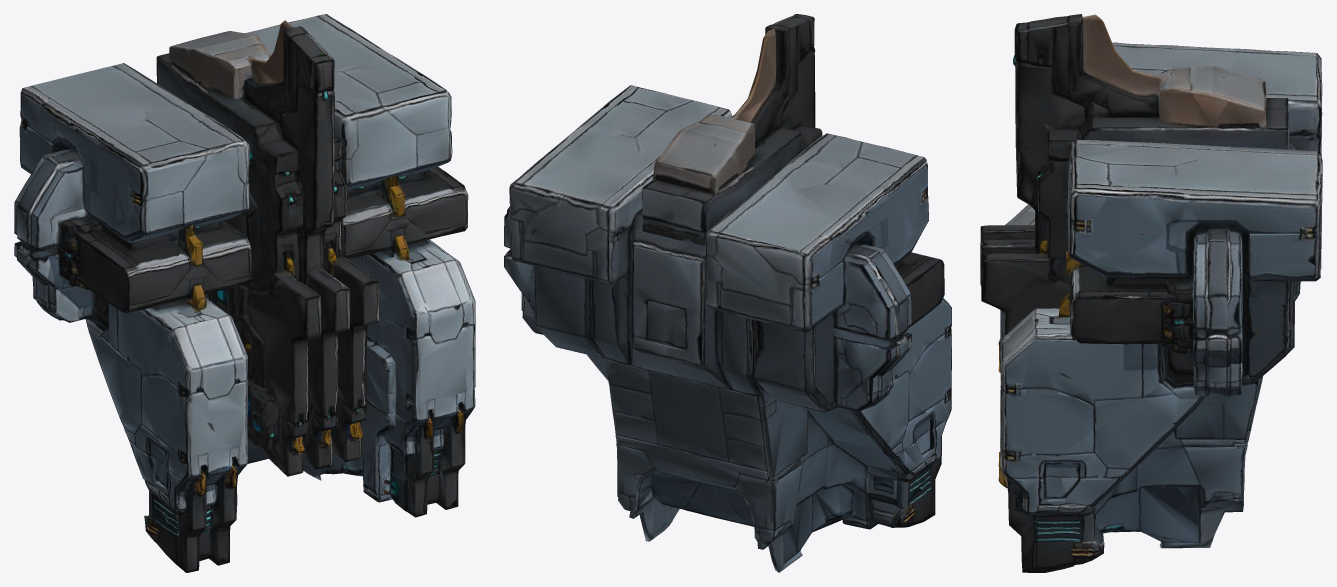
Rendered from HL_FAC_Garage_WarframeBlock.glb.
3 renders of one model, left to right at view 1: azimuth 30°, elevation 25°; view 2: azimuth 150°, elevation 25°; view 3: azimuth 270°, elevation 25°, orthographic. The views are drawn at different scales.
Parts seen in each view (by area): view 1: body; view 2: body; view 3: body.
Part boxes in pixels (x1,y1,x2,y2): body: (14, 14, 475, 572); body: (504, 14, 951, 572); body: (980, 14, 1322, 572).
Size of the model in its own units: 0.8249 by 0.9747 by 0.6044.
1 material, 1 textured.
